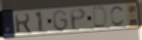1: (35, 10, 45, 34)
C: (109, 5, 126, 28)
D: (92, 6, 109, 30)
G: (52, 9, 70, 33)
P: (69, 8, 88, 32)
R: (13, 12, 32, 35)
